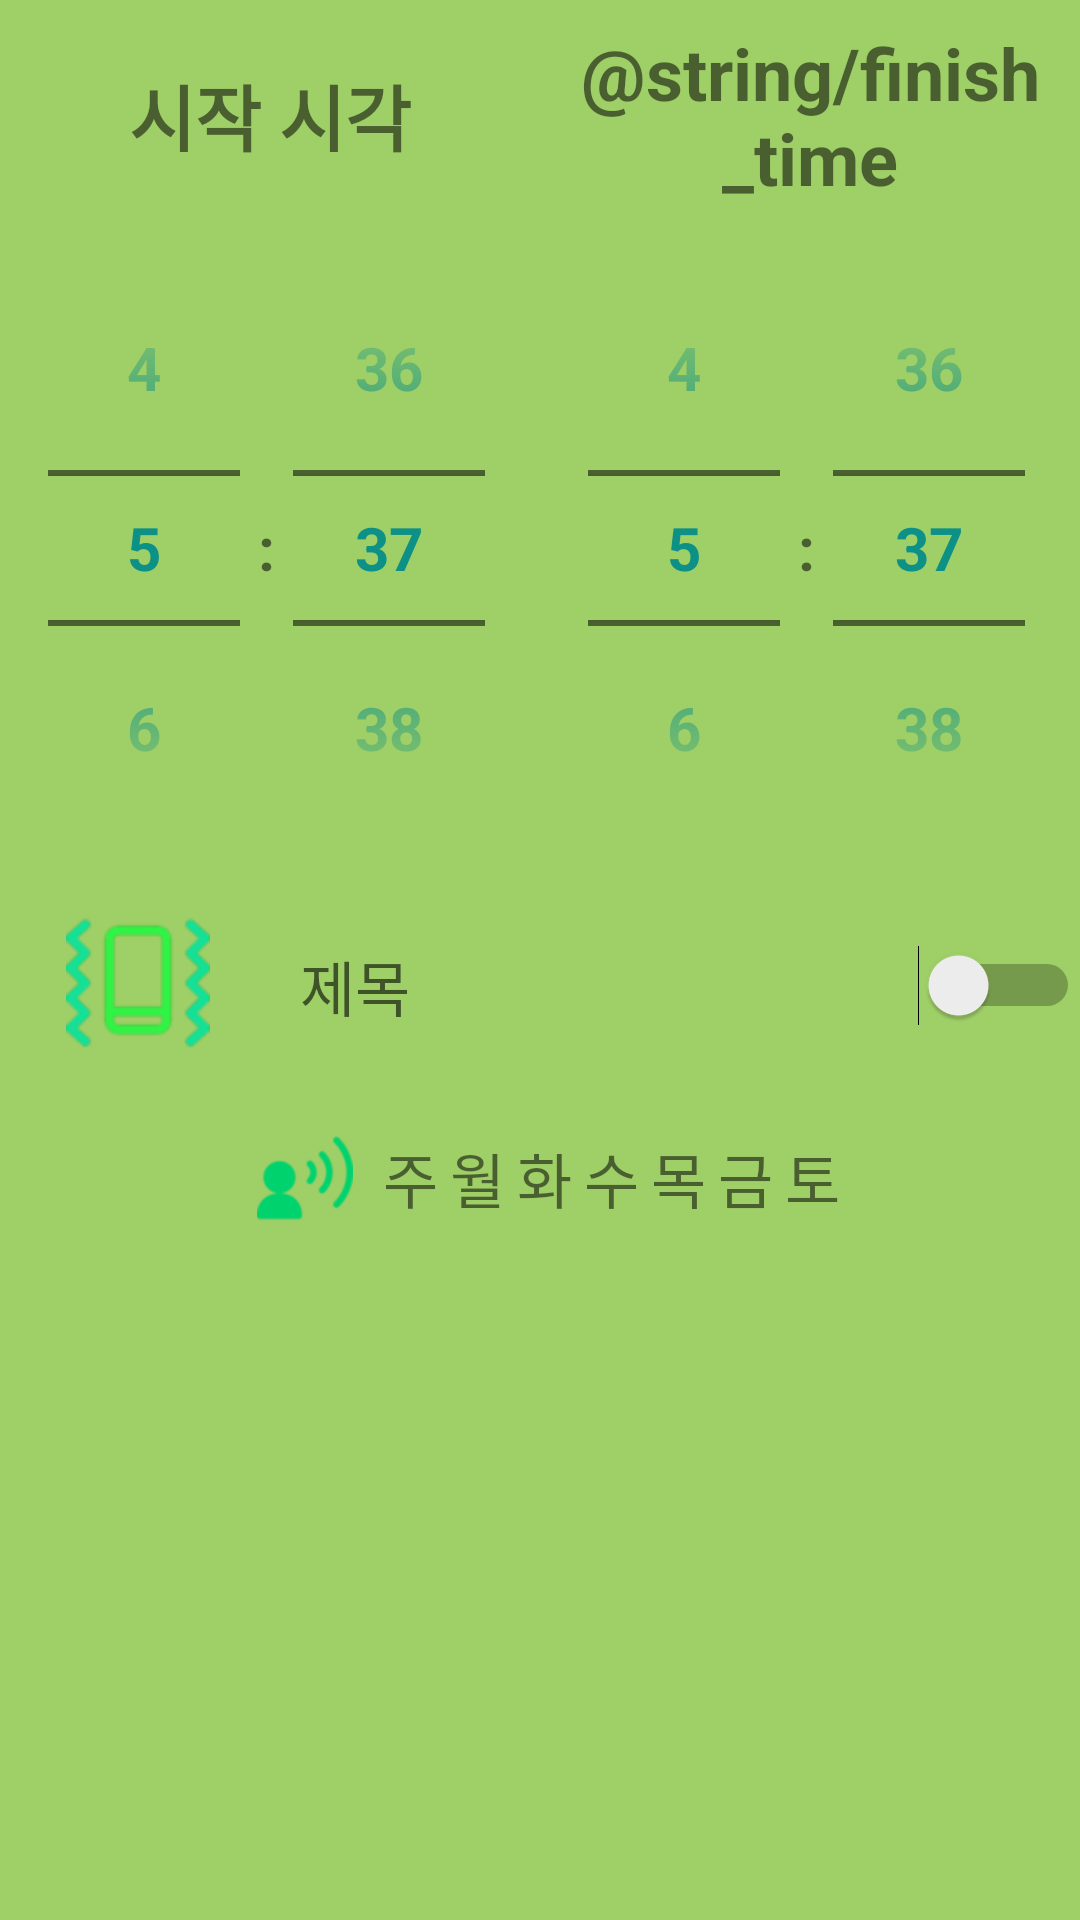

Point at icon controls on the screen. Image size 1080*1920, points as (x=x, y=y).
phone vibrate: (x=138, y=983)
speaking on: (x=305, y=1178)
